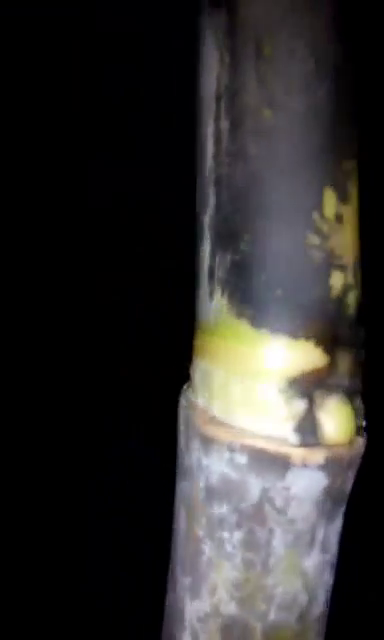cane eye: (302, 383, 369, 452)
